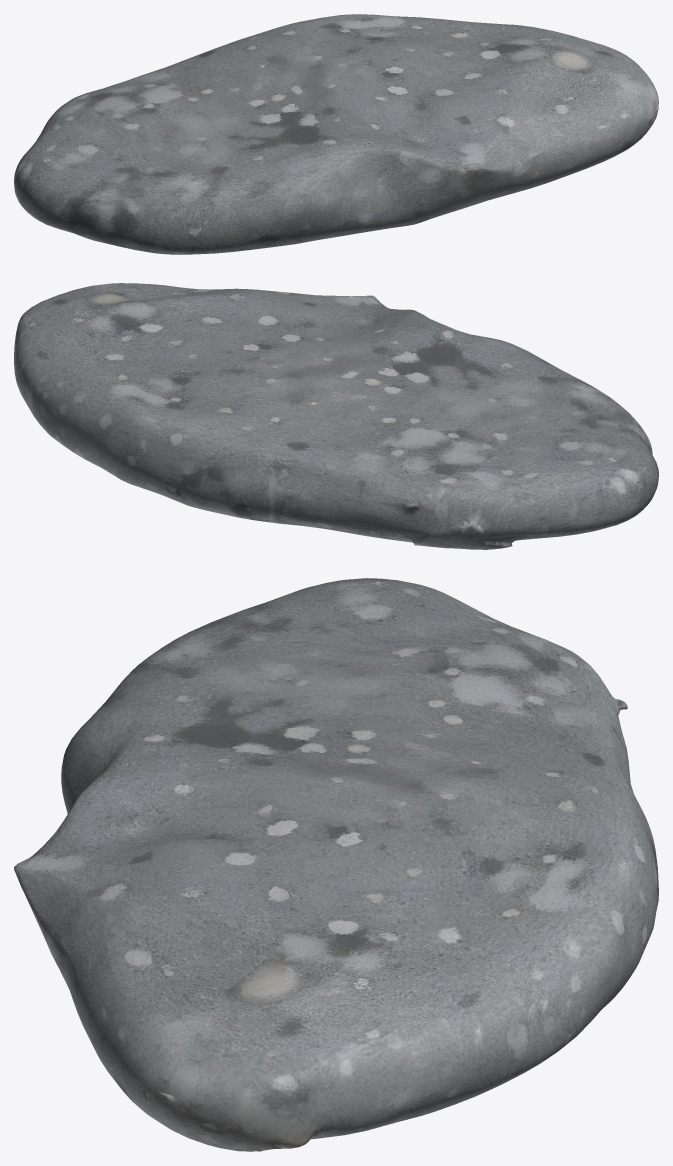
Rendered from rock-3.glb.
The picture shows the model from 3 angles, top to bottom: view 1: azimuth 30°, elevation 25°; view 2: azimuth 150°, elevation 25°; view 3: azimuth 270°, elevation 25°; orthographic projection. The views are drawn at different scales.
Visible parts, largest first — view 1: Mesh_0; view 2: Mesh_0; view 3: Mesh_0.
Part boxes in pixels (left/top/right/bottom): Mesh_0: left=14, top=14, right=658, bottom=254; Mesh_0: left=14, top=283, right=658, bottom=549; Mesh_0: left=14, top=578, right=658, bottom=1151.
Bounding box in the file's own units: 2 × 0.3213 × 1.11.
Materials: 1 (1 with a texture image).
